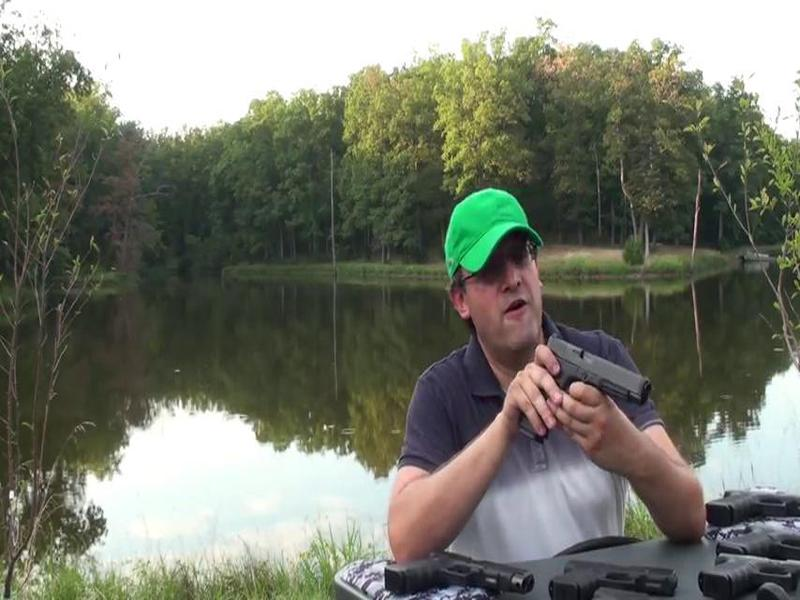Pistola: (514, 323, 649, 467)
